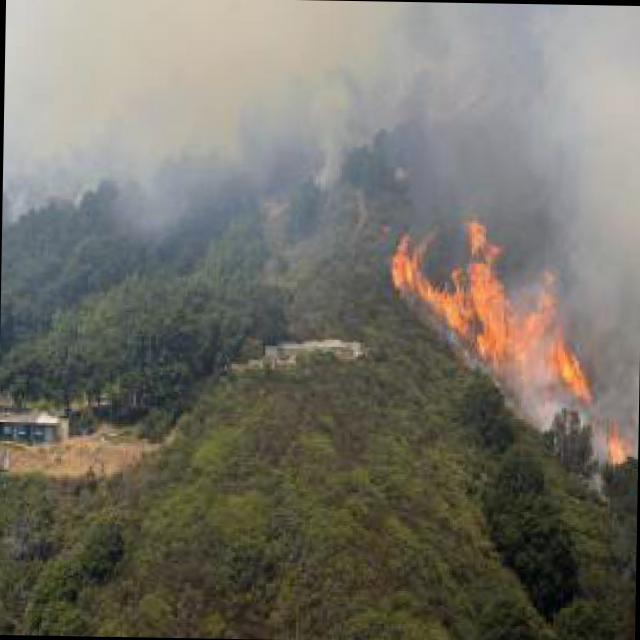fire: (387, 212, 593, 424), (602, 403, 638, 480)
smoke: (388, 1, 599, 218)
